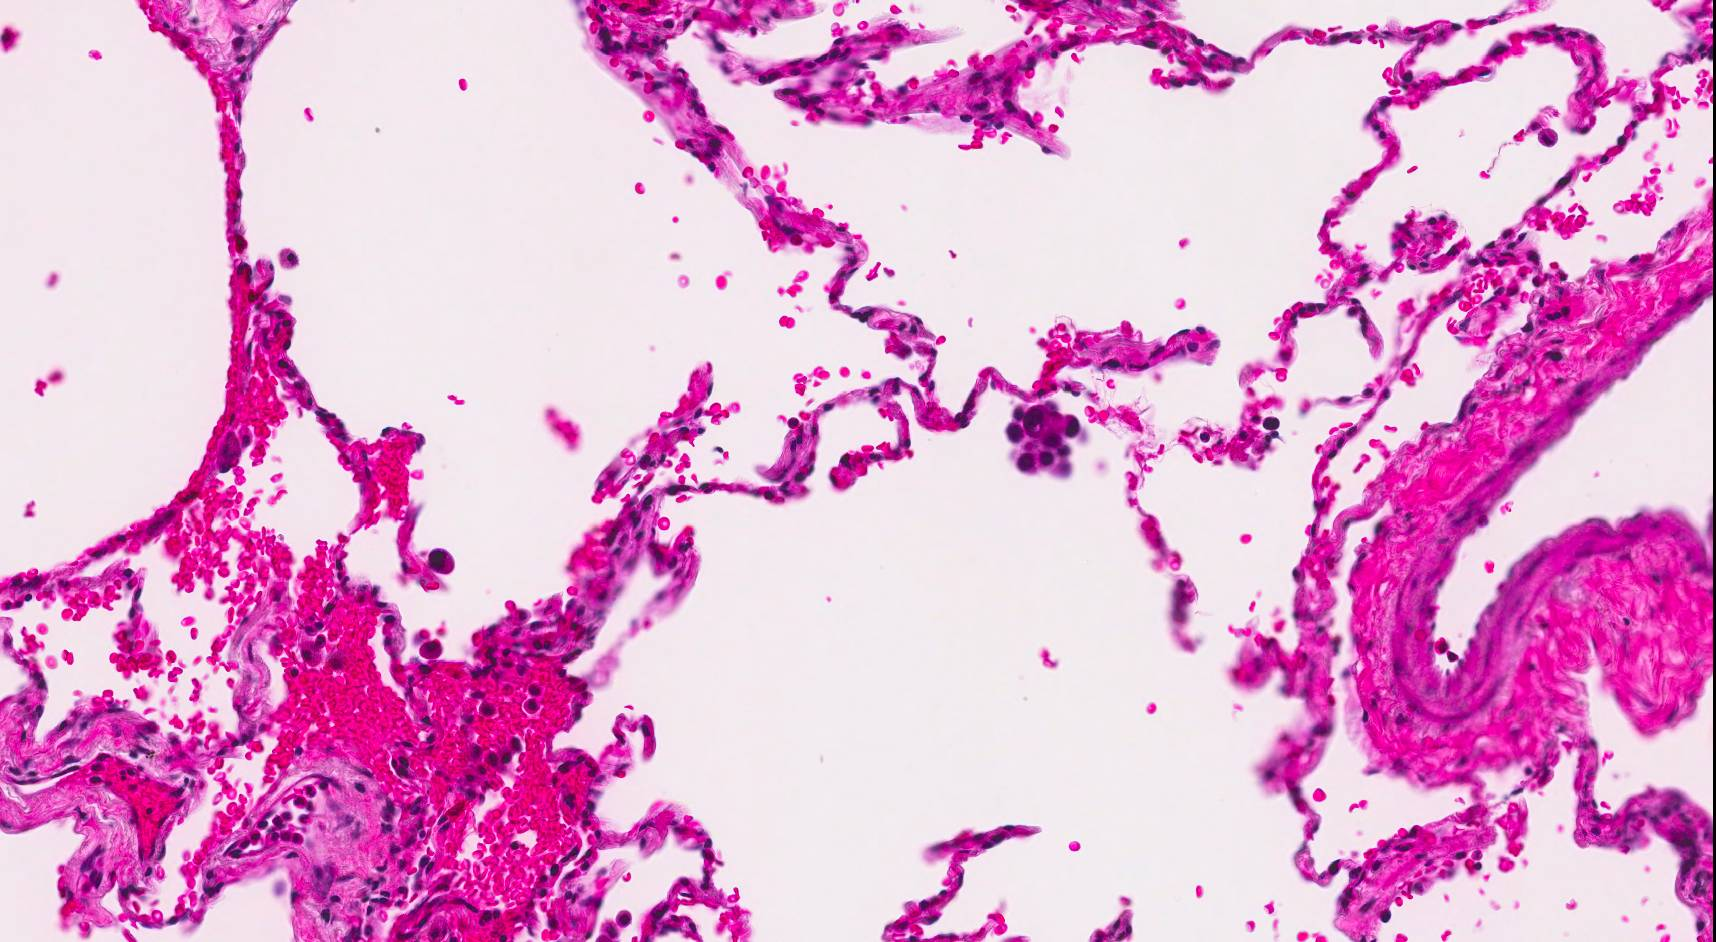stas: (1003, 403, 1087, 482)
